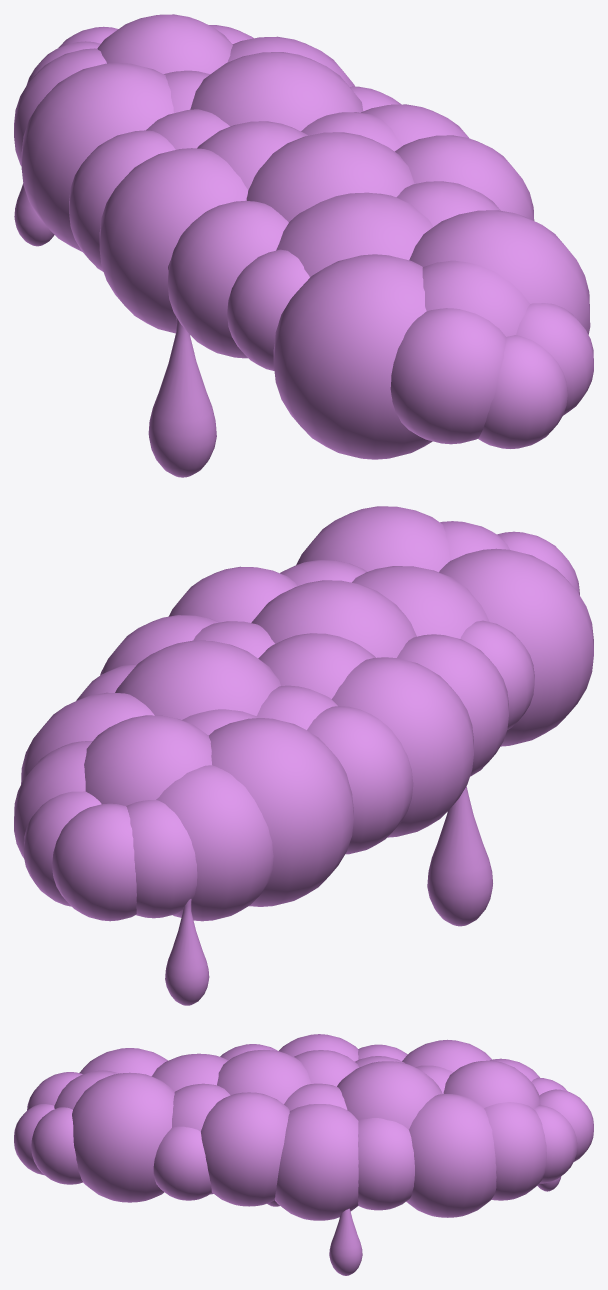
File: JellyPlatform2.fbx
3 views of the same model, one above another, from view 1: azimuth 30°, elevation 25°; view 2: azimuth 150°, elevation 25°; view 3: azimuth 270°, elevation 25° (orthographic). The views are drawn at different scales.
Visible parts, largest first — view 1: pSphere67; view 2: pSphere67; view 3: pSphere67.
Part boxes in pixels (<box>): pSphere67: <box>14,14,593,477</box>; pSphere67: <box>14,506,593,1005</box>; pSphere67: <box>14,1034,593,1275</box>.
Bounding box in the file's own units: 2.51 × 1.99 × 5.39.
